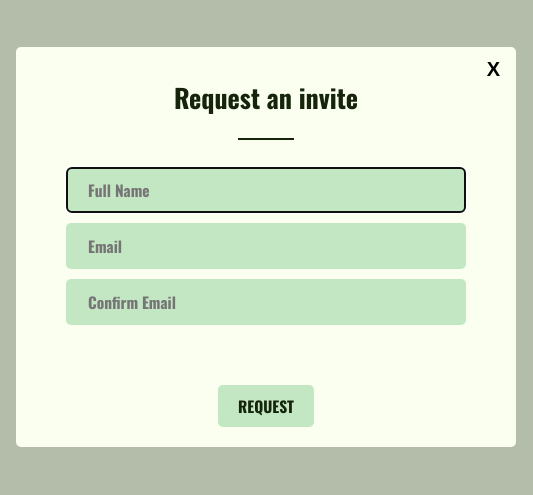
Test case: SignUp component › displays validation errors on submit with mismatched emails
In the field with placeholder "Email": (266, 246) [66,222,466,268], type "john@example.com"
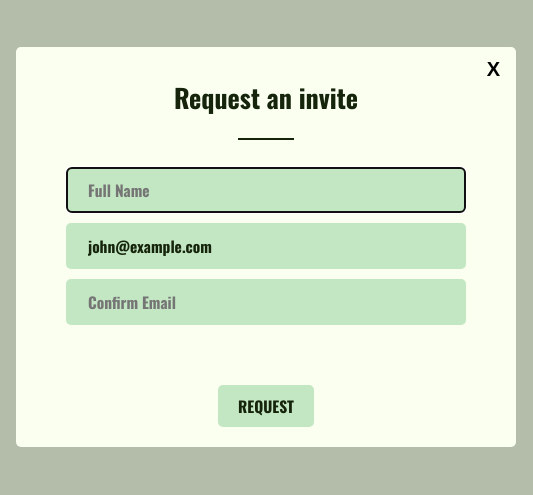
In the field with placeholder "Confirm Email": (266, 302) [66,278,466,324], type "test@example.com"
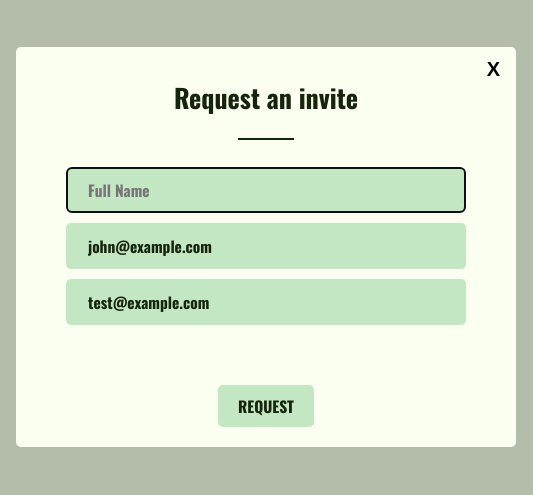
Click the button "Request": (266, 406) [218,384,314,426]
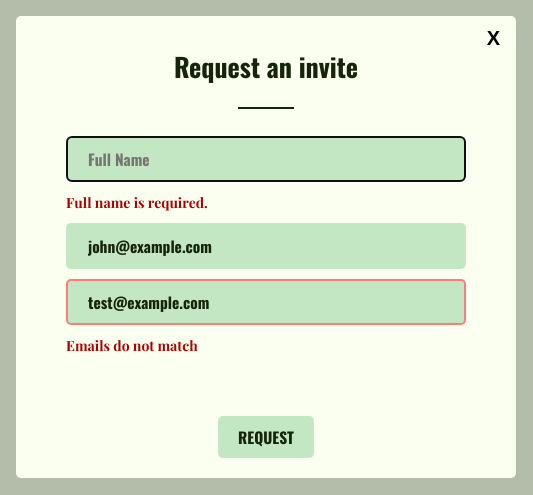
Expected: the text "Emails do not match" is shown, [66,336,198,354]
